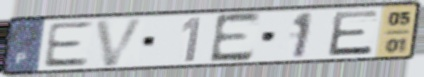1: (290, 10, 315, 59), (180, 15, 203, 64)
E: (207, 11, 264, 65), (325, 9, 381, 58), (40, 20, 94, 69)
V: (93, 16, 149, 69)
